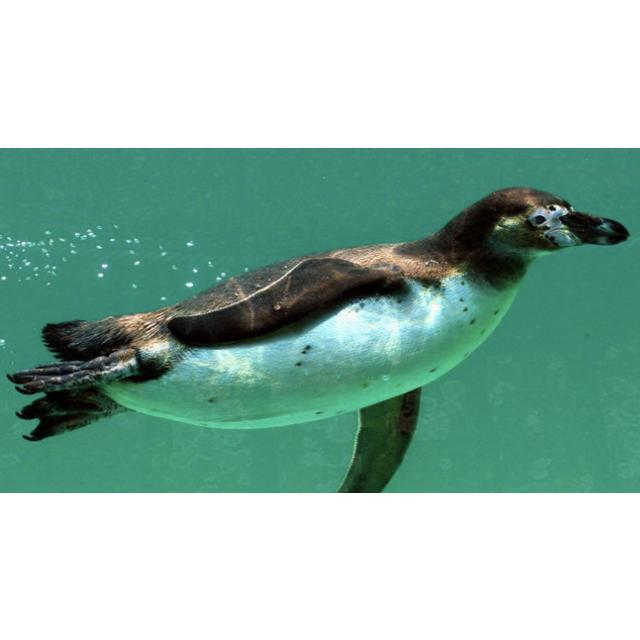penguin: (6, 187, 630, 491)
